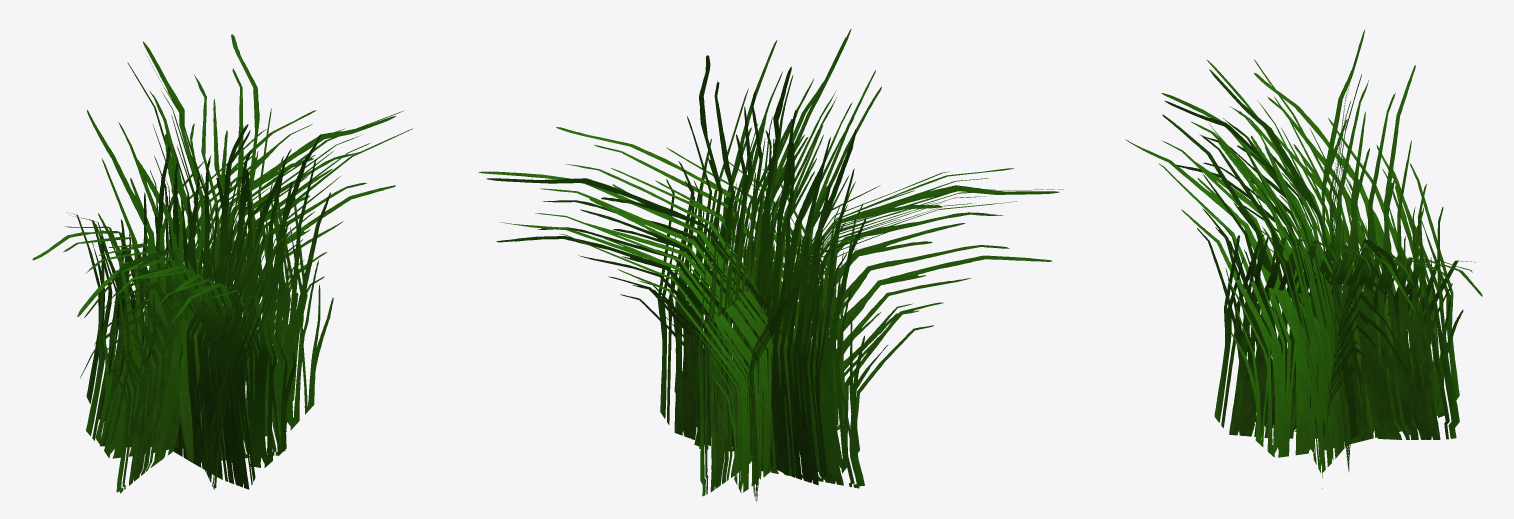
File: SM_grass_01.glb
3 views of the same model, side by side, from view 1: azimuth 30°, elevation 25°; view 2: azimuth 150°, elevation 25°; view 3: azimuth 270°, elevation 25° (orthographic). The views are drawn at different scales.
Parts seen in each view (by area): view 1: SM_grass_01; view 2: SM_grass_01; view 3: SM_grass_01.
Boxes of the visible parts, bbox=[...] form: SM_grass_01: bbox=[32, 34, 412, 493]; SM_grass_01: bbox=[478, 29, 1063, 501]; SM_grass_01: bbox=[1125, 30, 1482, 488].
Bounding box in the file's own units: 0.5688 × 0.492 × 0.4055.
Materials: 1 (1 with a texture image).
